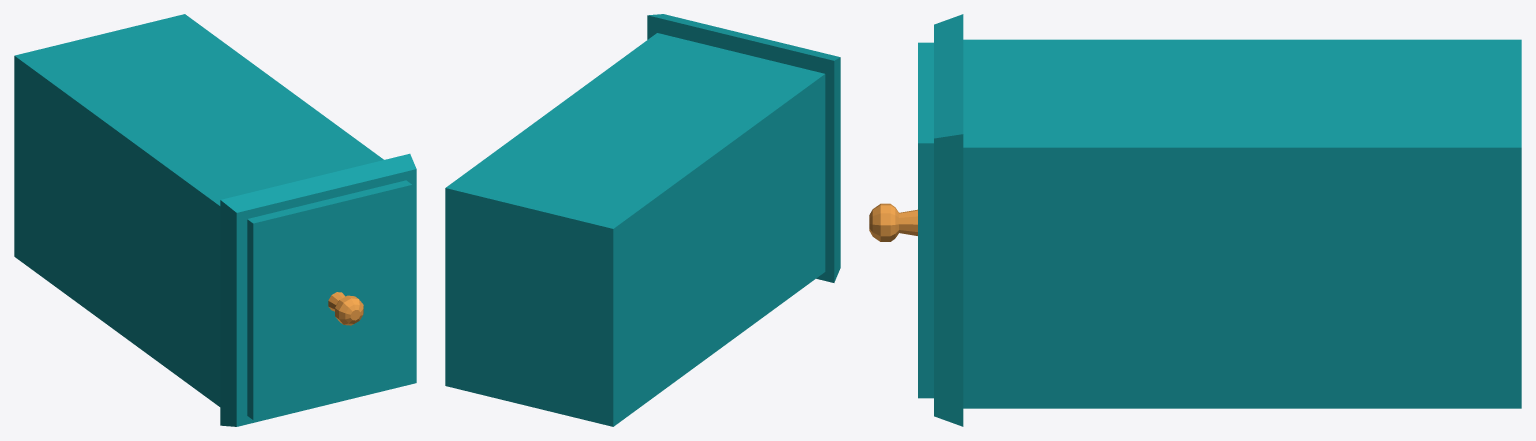
The model's file is BigDrawer.fbx.
The picture shows the model from 3 angles, left to right: view 1: azimuth 30°, elevation 25°; view 2: azimuth 150°, elevation 25°; view 3: azimuth 270°, elevation 25°; orthographic projection. The views are drawn at different scales.
Parts seen in each view (by area): view 1: BigDrawer; view 2: BigDrawer; view 3: BigDrawer.
Part boxes in pixels (bbox=[...]): BigDrawer: bbox=[14, 14, 416, 426]; BigDrawer: bbox=[445, 14, 840, 426]; BigDrawer: bbox=[869, 14, 1521, 426].
Size of the model in its own units: 450 by 512 by 1033.
